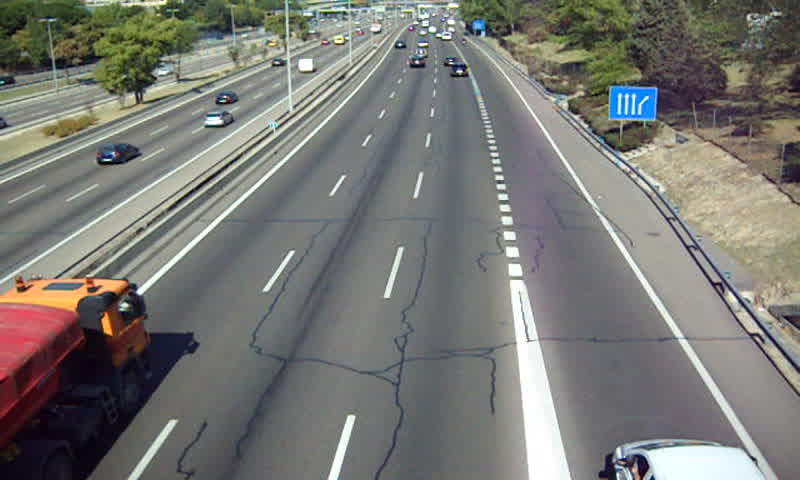car: (450, 64, 470, 78)
